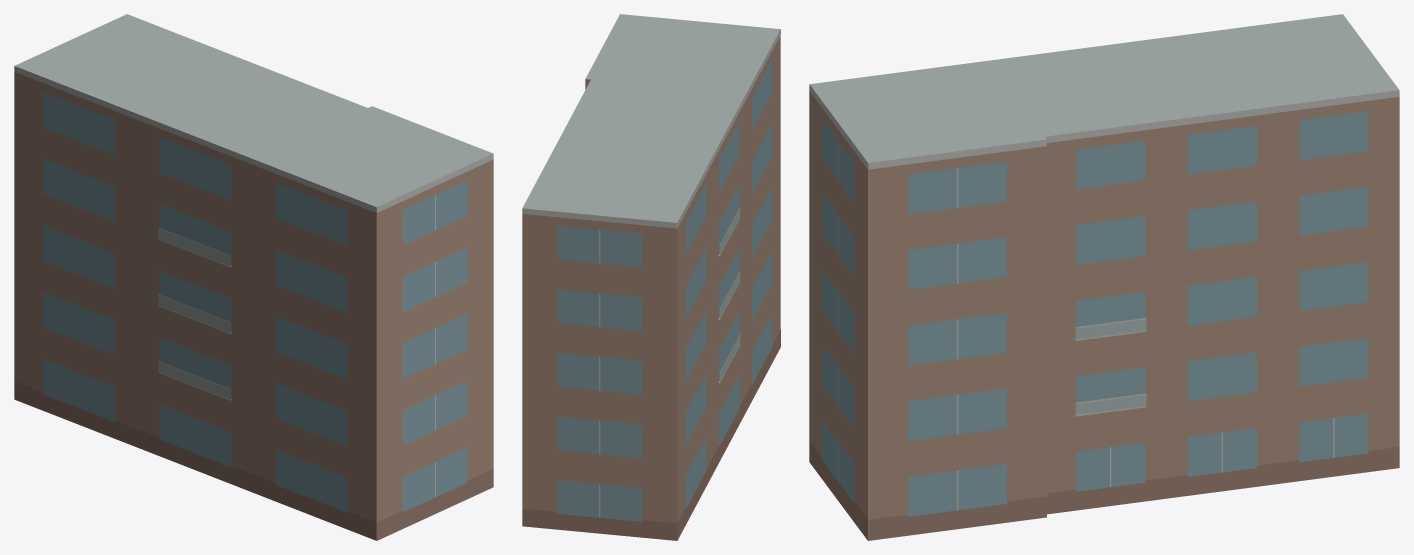
Rendered from survey-upis-32964525.glb.
The picture shows the model from 3 angles, left to right: view 1: azimuth 30°, elevation 25°; view 2: azimuth 150°, elevation 25°; view 3: azimuth 270°, elevation 25°; orthographic projection. The views are drawn at different scales.
Parts seen in each view (by area): view 1: survey-upis-32964525.tmp; view 2: survey-upis-32964525.tmp; view 3: survey-upis-32964525.tmp.
Boxes of the visible parts, bbox=[...] form: survey-upis-32964525.tmp: bbox=[14, 14, 493, 540]; survey-upis-32964525.tmp: bbox=[522, 14, 780, 540]; survey-upis-32964525.tmp: bbox=[809, 14, 1399, 540].
Bounding box in the file's own units: 11.81 × 13.95 × 19.76.
